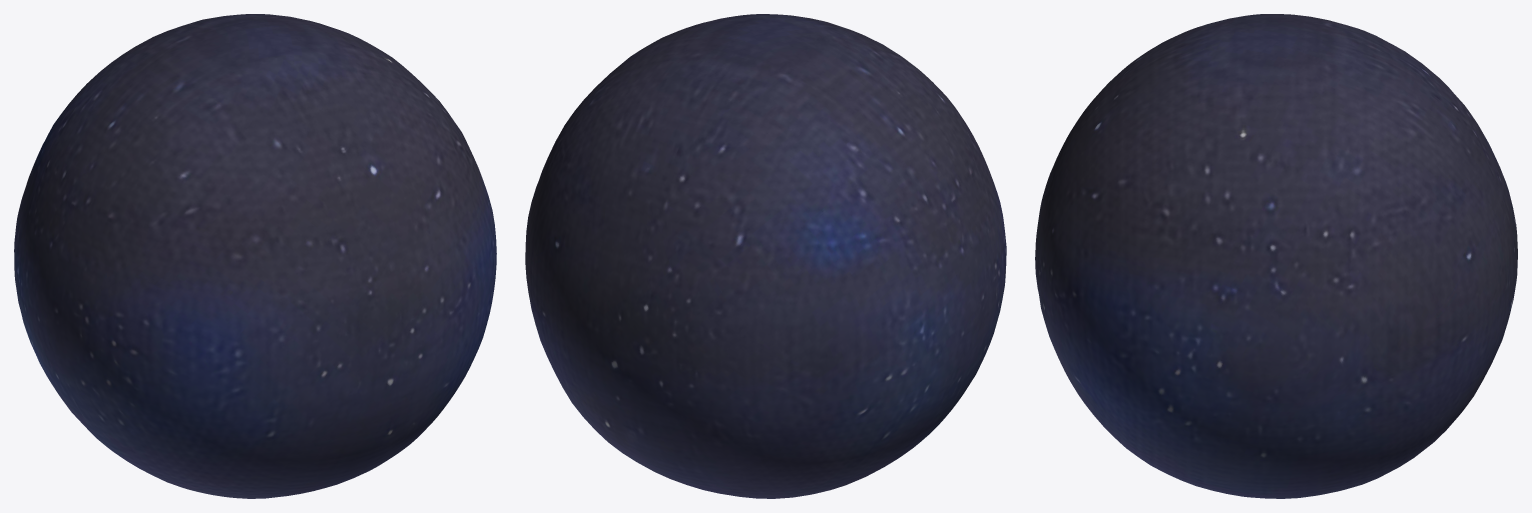
File: d969ec680e74_una_esfera_con_fond.fbx
The picture shows the model from 3 angles, left to right: view 1: azimuth 30°, elevation 25°; view 2: azimuth 150°, elevation 25°; view 3: azimuth 270°, elevation 25°; orthographic projection.
Visible parts, largest first — view 1: mesh; view 2: mesh; view 3: mesh.
Boxes of the visible parts, x1,y1,x2,y2 form: mesh: (14,14,496,498); mesh: (525,14,1006,498); mesh: (1035,14,1517,498).
Size of the model in its own units: 99.43 by 99.97 by 99.26.
